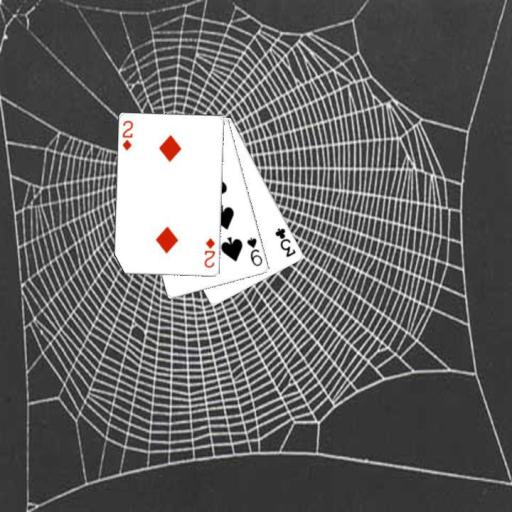2D: (201, 236, 217, 270), (119, 118, 134, 152)
3C: (273, 225, 298, 259)
9S: (244, 234, 264, 268)
